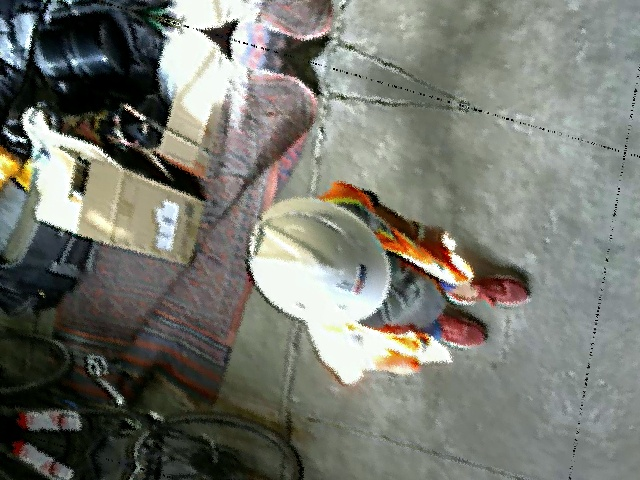one: (246, 213, 261, 258)
